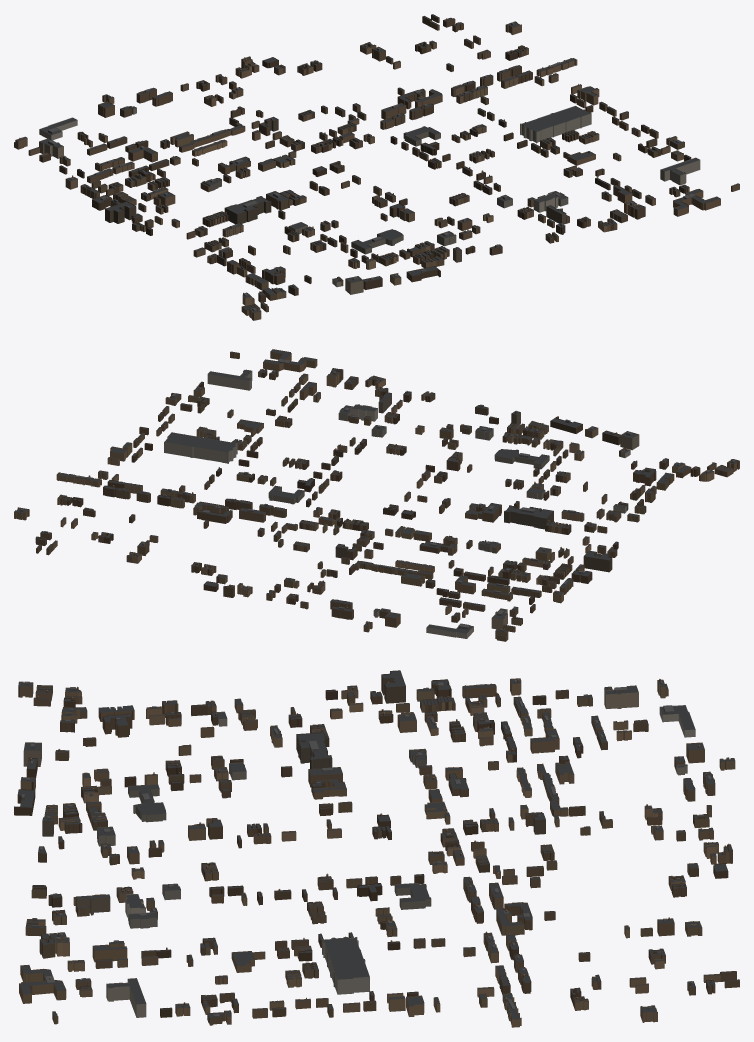
Rendered from manhattan_+01_-08.glb.
3 views of the same model, one above another, from view 1: azimuth 30°, elevation 25°; view 2: azimuth 150°, elevation 25°; view 3: azimuth 270°, elevation 25° (orthographic). The views are drawn at different scales.
Parts seen in each view (by area): view 1: BLD_lowrise_+01_-08, BLD_midrise_+01_-08; view 2: BLD_lowrise_+01_-08, BLD_midrise_+01_-08; view 3: BLD_lowrise_+01_-08, BLD_midrise_+01_-08.
Part boxes in pixels (x1=…): BLD_lowrise_+01_-08: x1=14, y1=14, x2=739, y2=320; BLD_midrise_+01_-08: x1=39, y1=106, x2=591, y2=294; BLD_lowrise_+01_-08: x1=14, y1=349, x2=739, y2=641; BLD_midrise_+01_-08: x1=164, y1=392, x2=639, y2=629; BLD_lowrise_+01_-08: x1=14, y1=678, x2=739, y2=1027; BLD_midrise_+01_-08: x1=23, y1=670, x2=638, y2=994.
Bounding box in the file's own units: 1443 × 35.79 × 1298.
